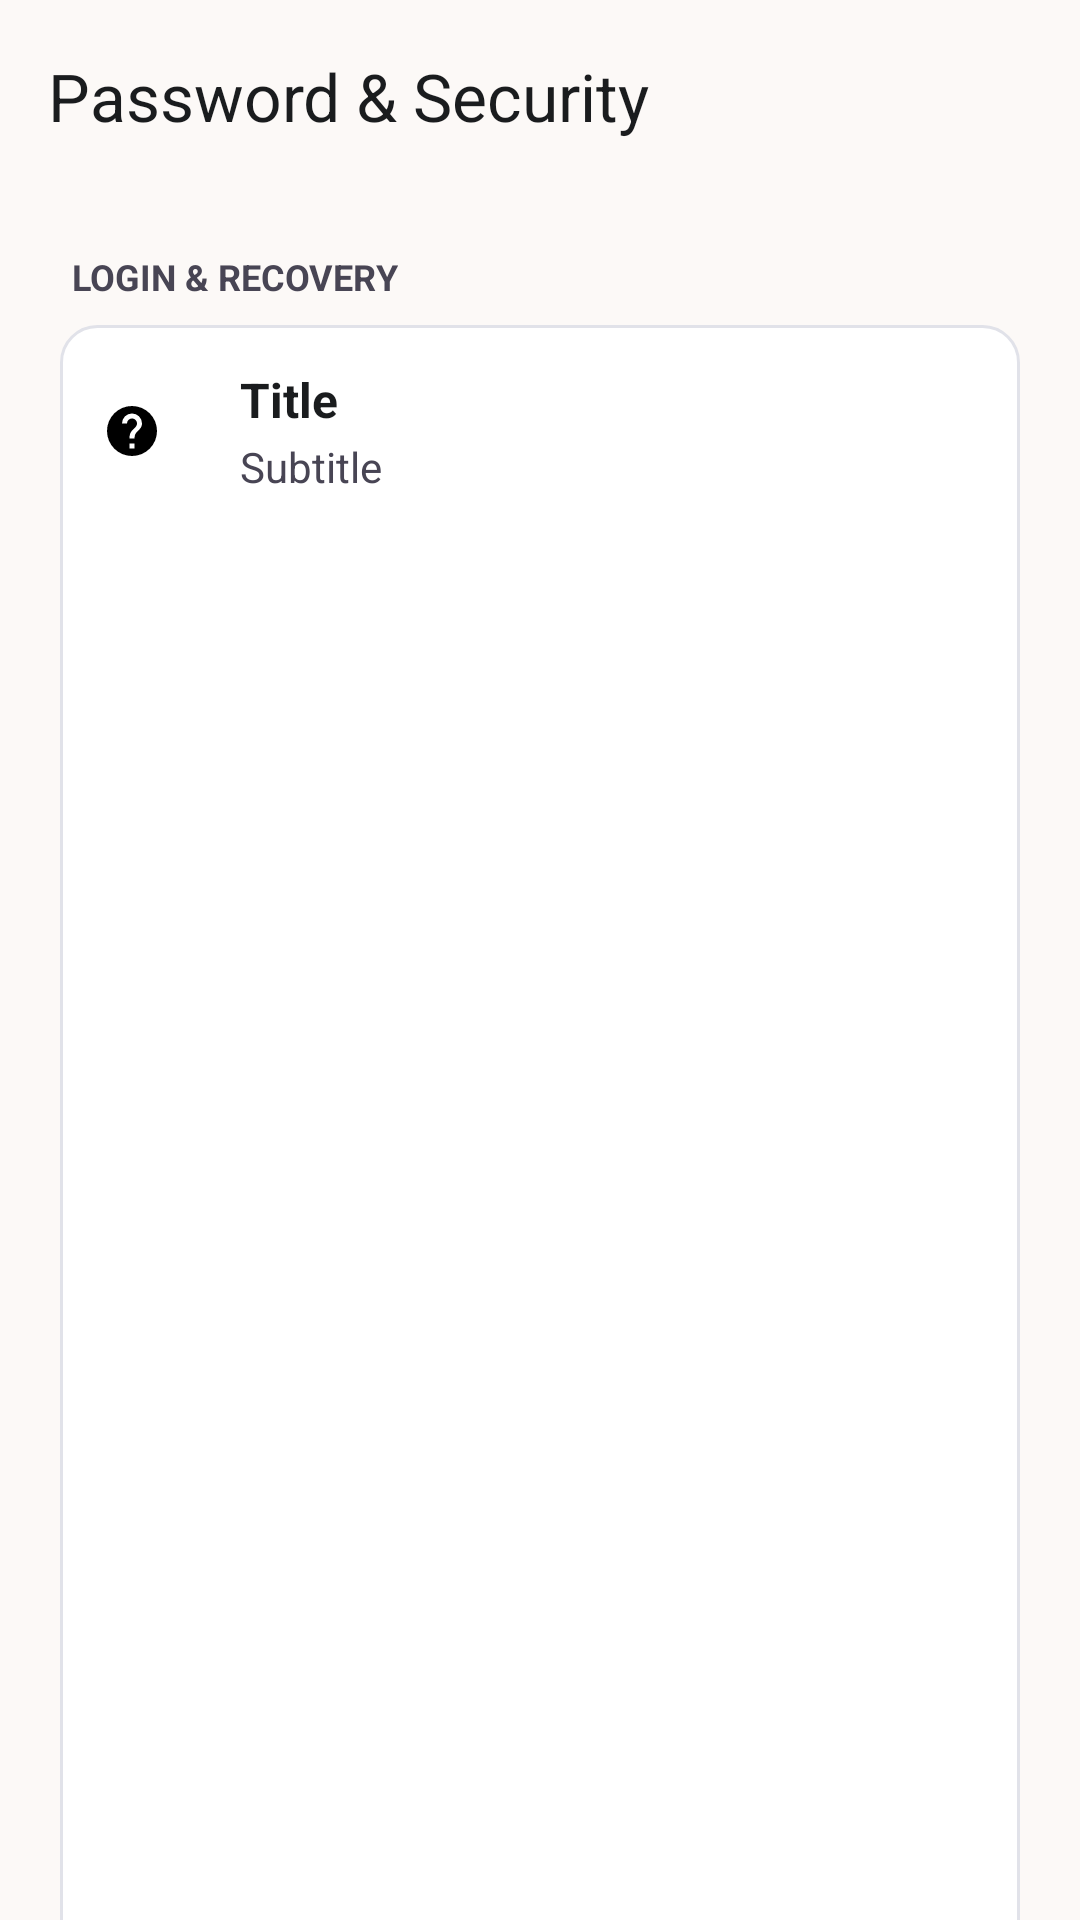

Icons on this 1080 x 1920 Android screen, each with its box as (x1, y1, x2, y2):
help: (107, 406, 157, 456)
